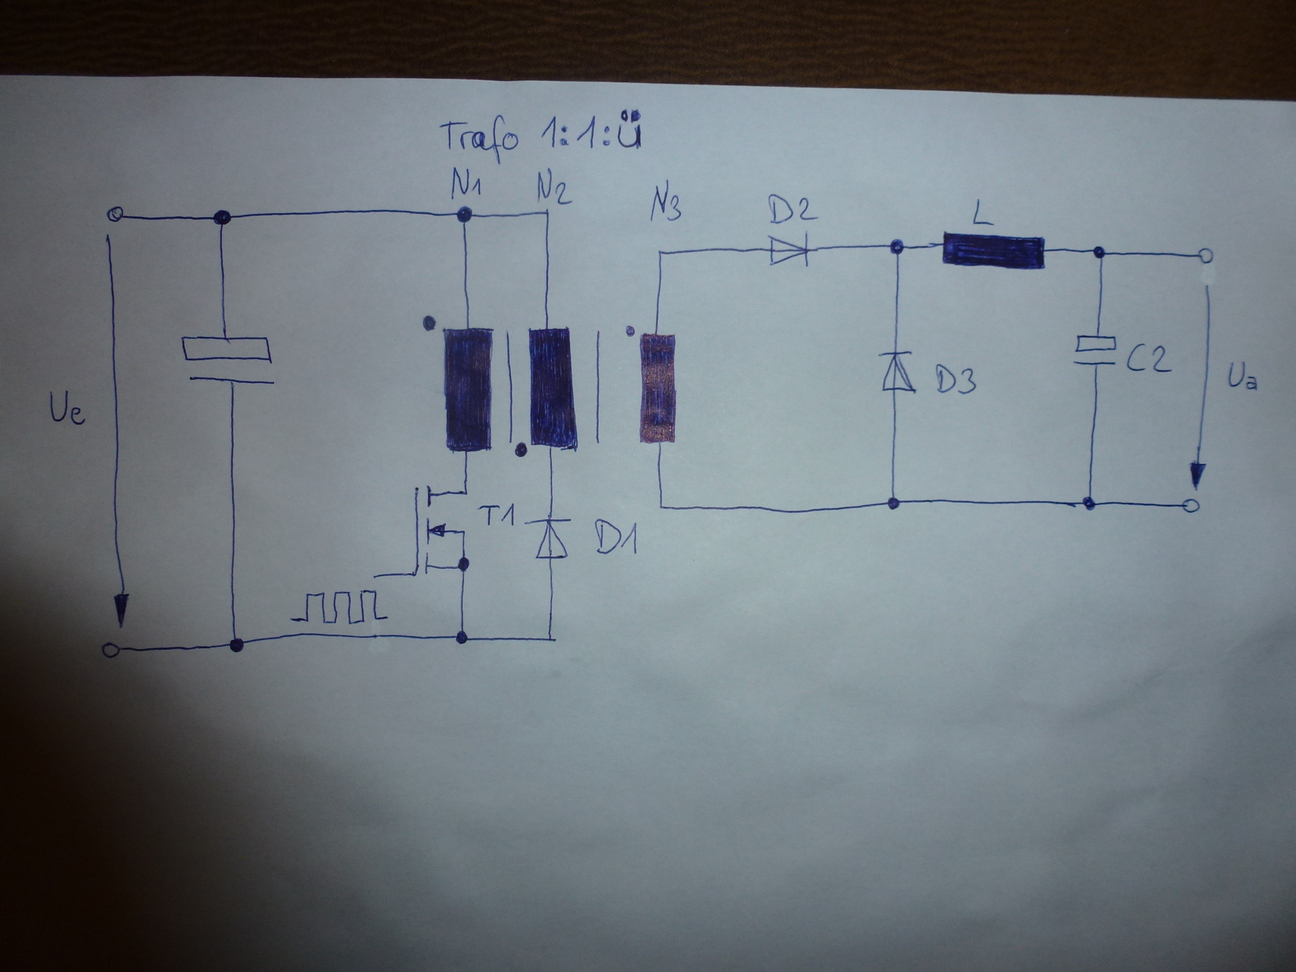capacitor.polarized: (179, 331, 277, 386), (1069, 333, 1119, 369)
diode: (529, 514, 574, 562), (876, 346, 918, 396), (763, 229, 813, 270)
inductor: (939, 229, 1049, 275)
junction: (882, 233, 911, 260), (209, 205, 234, 230), (225, 633, 246, 655), (1089, 241, 1109, 262), (1077, 493, 1099, 513), (455, 204, 473, 226), (883, 494, 903, 512), (453, 629, 471, 647), (654, 497, 671, 514), (652, 246, 667, 262), (543, 632, 558, 645), (540, 206, 552, 218)
terminal: (102, 201, 130, 226), (99, 638, 124, 661), (1194, 244, 1217, 266), (1180, 495, 1202, 514), (369, 570, 381, 579)
text: (429, 108, 651, 159), (592, 517, 642, 558), (764, 190, 819, 227), (1121, 340, 1172, 375), (645, 179, 684, 223), (931, 361, 977, 396), (535, 169, 574, 208), (46, 389, 86, 426), (448, 163, 484, 200), (477, 500, 519, 530), (1224, 360, 1260, 393), (970, 193, 1001, 229)
transformer: (419, 311, 682, 461)
transistor: (408, 479, 473, 581)
